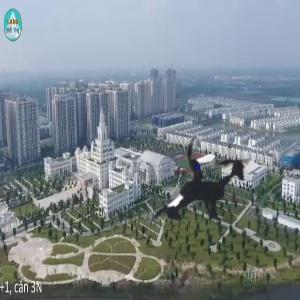drone: (102, 94, 291, 283)
